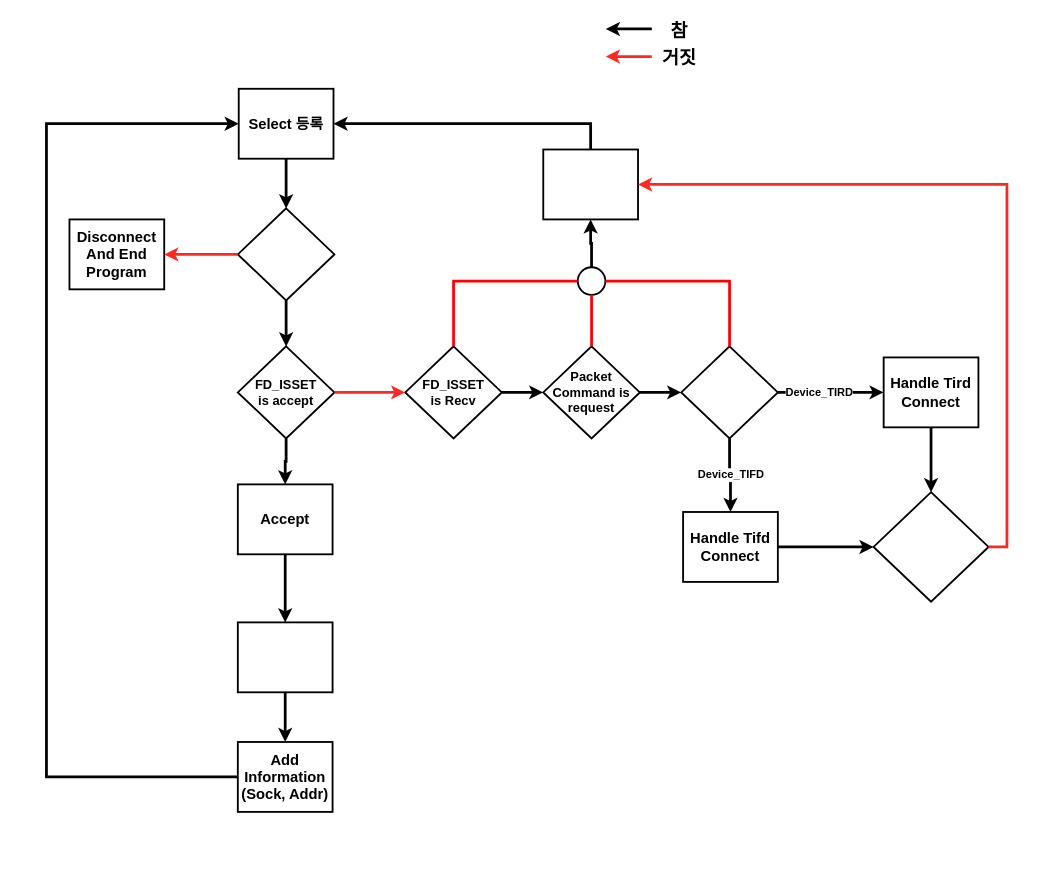
The diagram is 1053 pixels wide and 878 high, and some of its shapes have lost their labels. Here are the shapes that lost their labels. From the top down, the centre of each, then its label:
the point at 590,184: Disconnect And Delete Info
the point at 285,254: Select
the point at 729,392: Packet Category
the point at 930,546: (TIM) Push New Session
the point at 284,657: Send Command Request
